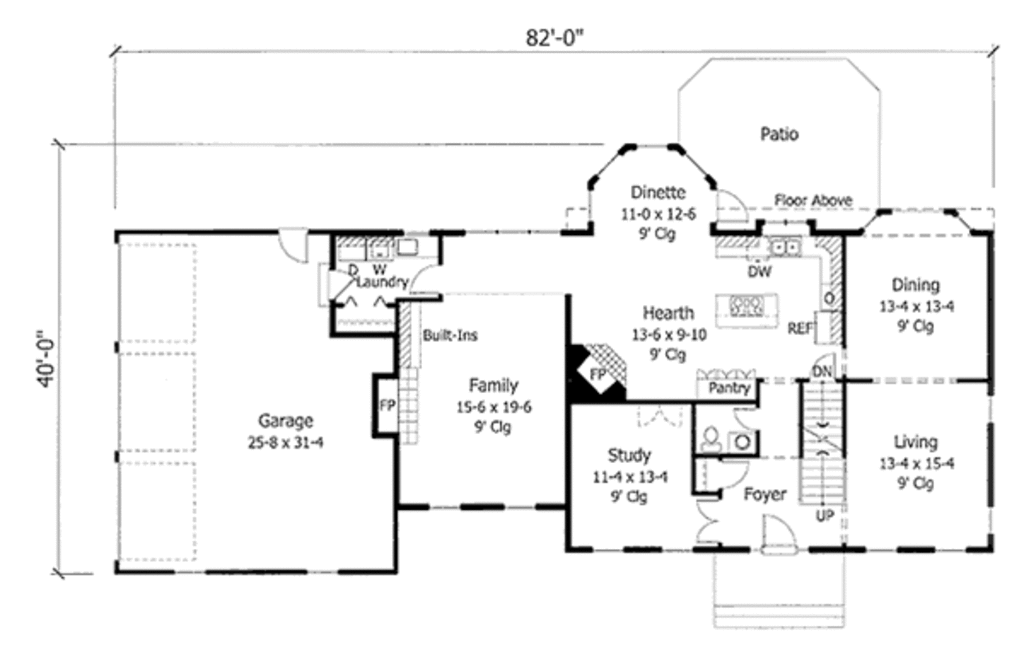door: (756, 505, 800, 555), (709, 183, 754, 227), (404, 261, 444, 303), (690, 494, 722, 546), (274, 228, 313, 262), (715, 457, 751, 491), (729, 406, 759, 430)
kitchen_bar: (711, 291, 784, 329)
large_sink: (691, 424, 726, 452)
stairs: (800, 375, 846, 510)
twin_sink: (766, 238, 801, 259)
windows: (881, 202, 945, 217), (490, 502, 545, 516), (627, 139, 675, 155), (928, 542, 972, 559), (424, 498, 465, 516), (980, 390, 999, 425), (586, 541, 626, 557), (860, 542, 900, 557), (983, 499, 998, 537)
